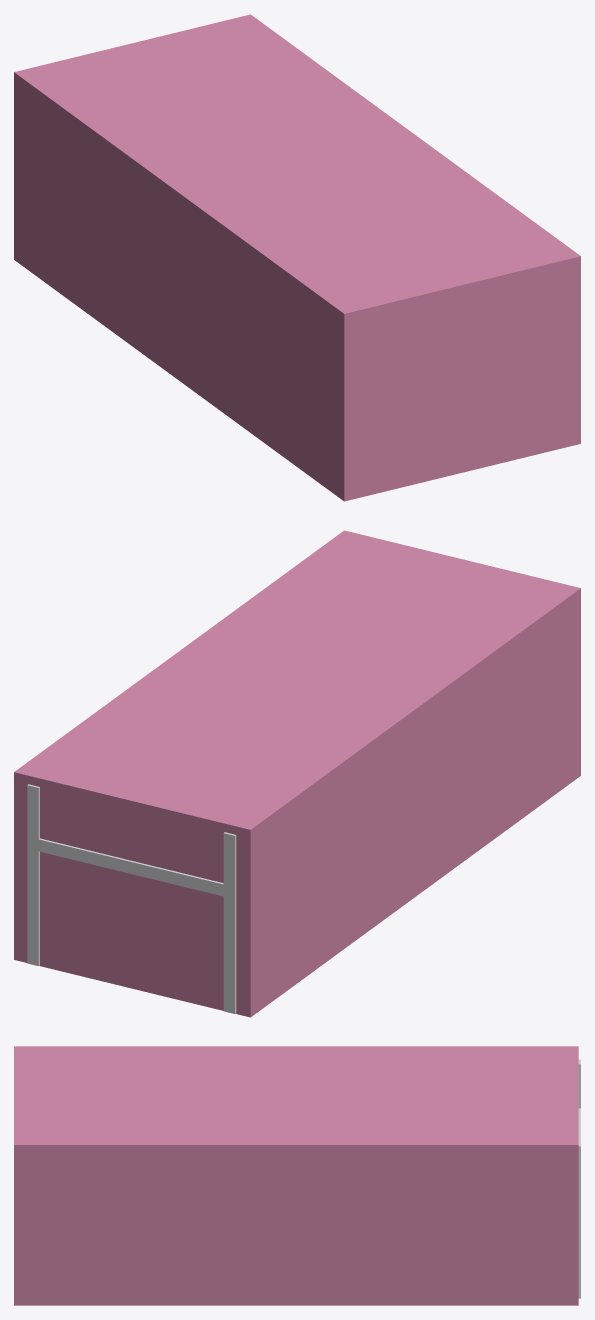
Rendered from ind_ramp_01_2m.dae.
3 views of the same model, one above another, from view 1: azimuth 30°, elevation 25°; view 2: azimuth 150°, elevation 25°; view 3: azimuth 270°, elevation 25° (orthographic). The views are drawn at different scales.
Visible parts, largest first — view 1: Untitled; view 2: Untitled, tree_oak_bush_a100; view 3: Untitled, tree_oak_bush_a100.
Boxes of the visible parts, x1=… form: Untitled: x1=14, y1=14, x2=580, y2=501; Untitled: x1=14, y1=530, x2=580, y2=1017; tree_oak_bush_a100: x1=27, y1=784, x2=236, y2=1013; Untitled: x1=14, y1=1046, x2=578, y2=1305; tree_oak_bush_a100: x1=578, y1=1059, x2=580, y2=1298.
Size of the model in its own units: 4.1 by 9.95 by 3.11.
